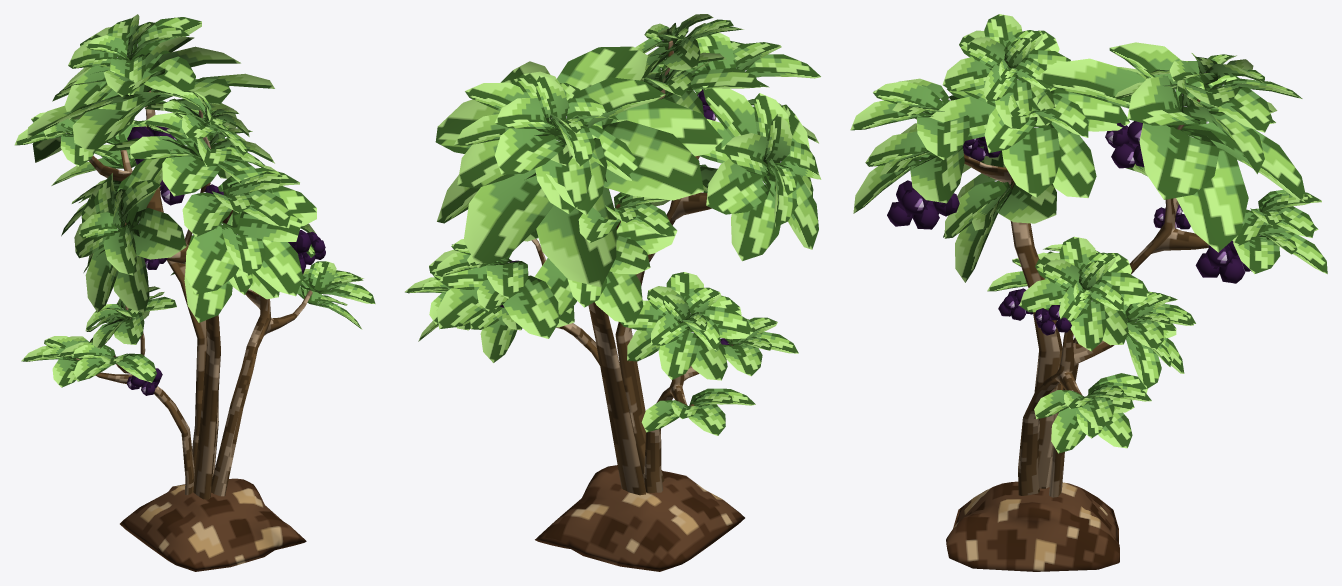
Rendered from (OLD)Elderberry Stage3.fbx.
3 renders of one model, left to right at view 1: azimuth 30°, elevation 25°; view 2: azimuth 150°, elevation 25°; view 3: azimuth 270°, elevation 25°, orthographic. The views are drawn at different scales.
Parts seen in each view (by area): view 1: Elderberry_Stage3_Combined; view 2: Elderberry_Stage3_Combined; view 3: Elderberry_Stage3_Combined.
Boxes of the visible parts, bbox=[...] form: Elderberry_Stage3_Combined: bbox=[14, 14, 375, 571]; Elderberry_Stage3_Combined: bbox=[405, 14, 821, 571]; Elderberry_Stage3_Combined: bbox=[850, 14, 1327, 571].
Bounding box in the file's own units: 35.49 × 48.53 × 42.64.
Materials: 1 (1 with a texture image).
